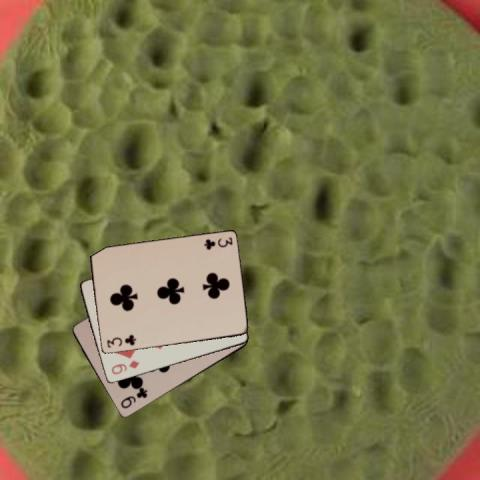3c: (104, 332, 137, 349), (201, 235, 234, 251)
9c: (117, 386, 149, 410)
9d: (108, 357, 141, 376)
